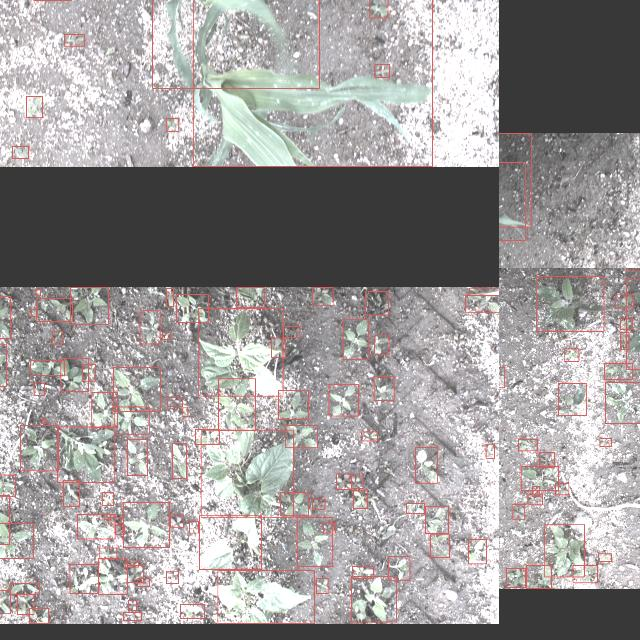crop: (192, 0, 432, 166), (151, 0, 318, 88), (200, 429, 294, 516), (198, 308, 282, 396), (217, 570, 313, 624), (199, 516, 261, 570), (57, 426, 113, 482), (122, 502, 170, 548), (350, 576, 396, 622), (112, 367, 160, 411), (218, 378, 255, 430), (19, 425, 57, 471), (296, 518, 332, 566), (70, 286, 108, 324), (0, 523, 32, 558), (342, 319, 368, 359), (76, 514, 114, 540), (328, 384, 358, 416), (114, 406, 148, 434), (60, 358, 88, 392), (98, 560, 126, 594), (278, 390, 308, 420), (176, 294, 208, 322), (92, 392, 116, 428), (36, 297, 72, 321), (69, 564, 97, 594), (415, 447, 437, 483), (127, 439, 147, 475), (285, 425, 317, 447), (280, 492, 308, 516), (424, 506, 448, 534), (139, 311, 159, 344), (236, 287, 264, 307), (30, 360, 64, 376), (172, 444, 186, 478), (429, 534, 448, 558), (468, 540, 486, 564), (0, 296, 10, 338), (312, 286, 332, 306), (0, 495, 8, 544), (28, 608, 48, 624), (0, 475, 14, 497), (10, 584, 38, 594), (374, 336, 388, 354), (0, 344, 6, 386), (0, 590, 10, 613), (165, 288, 172, 306)
weed: (535, 276, 603, 332), (544, 525, 584, 577), (604, 382, 640, 424), (520, 466, 558, 490), (557, 383, 585, 415), (465, 294, 499, 311), (387, 556, 409, 580), (364, 292, 388, 314), (526, 566, 550, 588), (604, 362, 632, 380), (373, 376, 393, 400), (63, 480, 79, 506), (572, 566, 596, 582), (16, 595, 34, 615), (506, 568, 524, 588), (26, 96, 42, 118), (195, 430, 219, 444), (180, 604, 204, 618), (369, 0, 387, 18), (271, 337, 285, 357), (335, 474, 351, 490), (127, 566, 143, 582), (538, 452, 554, 468), (353, 491, 367, 509), (614, 294, 632, 308), (64, 34, 84, 46), (352, 567, 372, 579), (469, 287, 499, 295), (82, 364, 95, 381), (518, 439, 536, 451), (282, 327, 300, 338), (374, 64, 388, 78), (564, 348, 578, 362), (12, 146, 28, 158), (315, 578, 327, 594), (512, 504, 524, 520), (98, 548, 116, 558), (405, 503, 423, 513), (166, 118, 178, 132), (32, 382, 44, 396), (554, 483, 568, 495), (526, 494, 542, 504), (101, 492, 112, 506), (361, 432, 377, 441), (350, 476, 362, 488), (122, 613, 140, 621), (166, 571, 178, 583), (170, 515, 182, 527), (166, 398, 182, 407), (620, 317, 632, 329), (620, 332, 628, 350), (484, 444, 494, 458), (52, 331, 62, 344), (312, 500, 324, 510), (323, 523, 335, 533), (188, 521, 198, 533), (499, 366, 504, 387), (137, 579, 149, 587), (598, 554, 610, 562), (599, 438, 611, 446), (124, 562, 138, 568), (128, 601, 136, 611), (115, 526, 124, 534), (108, 518, 120, 524), (532, 486, 538, 496), (182, 408, 188, 417), (30, 308, 36, 316), (161, 332, 169, 338), (34, 289, 40, 295), (103, 514, 109, 520), (41, 418, 45, 422)
